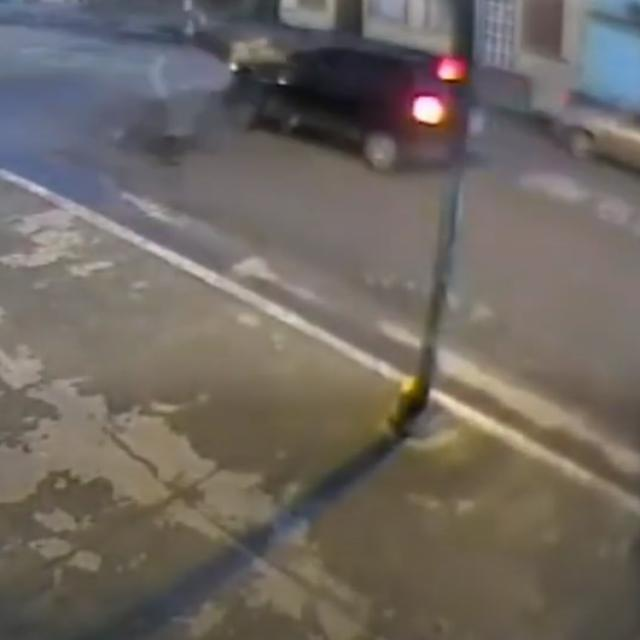accident: (118, 31, 468, 173)
